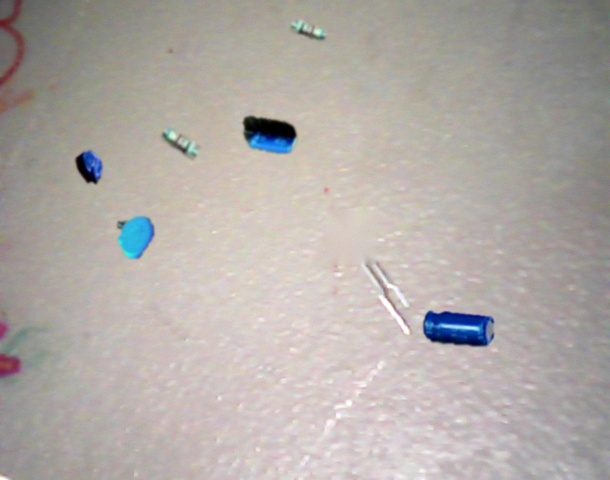capacitor: (423, 311, 495, 346), (243, 116, 298, 154), (117, 216, 154, 259), (75, 150, 103, 184)
resistor: (159, 125, 202, 161), (289, 17, 328, 44)
